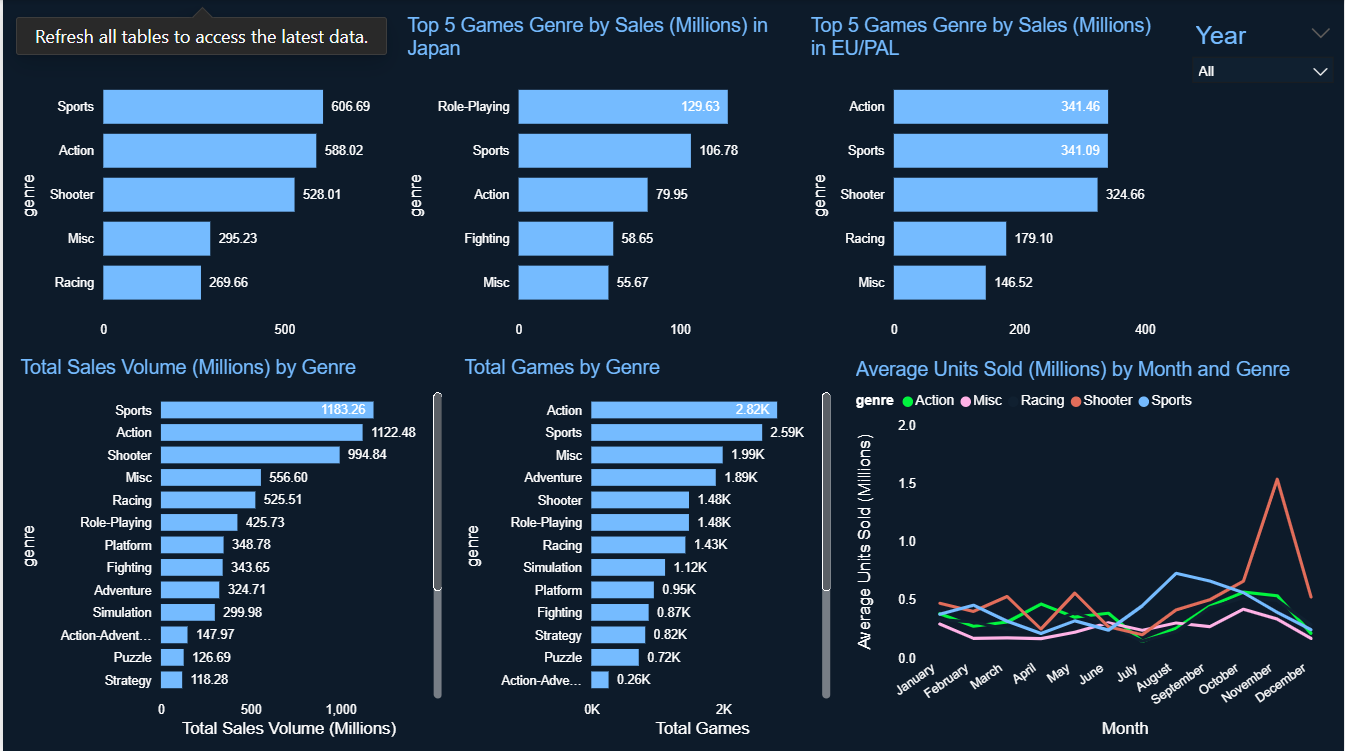

This screenshot's page, from the dashboard's own definition file:
{"tool":"powerbi","page":{"name":"Sales by Genre","canvas":[1280,720],"ordinal":1},"visuals":[{"type":"clusteredBarChart","title":"Total Sales Volume (Millions) by Genre","fields":{"Category":["Dim_Genre.genre"],"Y":["_Measures.Total Sales Volume (Millions)"]},"box":[11.6,341.2,412.5,367.7],"z":0},{"type":"clusteredBarChart","title":"Top 5 Games Genre by Sales (Millions) in North America","fields":{"Category":["Dim_Genre.genre"],"Y":["_Measures.US_sales"]},"box":[11.6,14.9,357.8,316.4],"z":1000},{"type":"clusteredBarChart","title":"Top 5 Games Genre by Sales (Millions) in Japan","fields":{"Category":["Dim_Genre.genre"],"Y":["_Measures.JP_sales"]},"box":[381,14.9,369.4,316.4],"z":2000},{"type":"clusteredBarChart","title":"Top 5 Games Genre by Sales (Millions) in EU/PAL","fields":{"Category":["Dim_Genre.genre"],"Y":["_Measures.EU_sales"]},"box":[767,14.9,347.9,316.4],"z":3000},{"type":"clusteredBarChart","title":"Total Games by Genre","fields":{"Category":["Dim_Genre.genre"],"Y":["_Measures.Total Games"]},"box":[435.7,341.2,359.5,367.7],"z":4000},{"type":"slicer","fields":{"Values":["Fact_Games.release_date.Variation.Date Hierarchy.Year"]},"box":[1125.6,14.6,154.5,83],"z":5000},{"type":"lineChart","title":"Average Units Sold (Millions) by Month and Genre","fields":{"Category":["Fact_Games.release_date.Variation.Date Hierarchy.Month"],"Series":["Dim_Genre.genre"],"Y":["_Measures.Average Units Sold (Millions)"]},"box":[808.8,342,457.3,366.6],"z":6000}]}

Visuals, with their boxes in screenshot pixels (x1, y1, x2, y2), scaled from the page's 1280x720 canvas onto the 1345x751 screenshot:
"Total Sales Volume (Millions) by Genre" clusteredBarChart: [left=12, top=356, right=446, bottom=739]
"Top 5 Games Genre by Sales (Millions) in North America" clusteredBarChart: [left=12, top=16, right=388, bottom=346]
"Top 5 Games Genre by Sales (Millions) in Japan" clusteredBarChart: [left=400, top=16, right=789, bottom=346]
"Top 5 Games Genre by Sales (Millions) in EU/PAL" clusteredBarChart: [left=806, top=16, right=1172, bottom=346]
"Total Games by Genre" clusteredBarChart: [left=458, top=356, right=836, bottom=739]
slicer - Fact_Games.release_date.Variation.Date Hierarchy.Year: [left=1183, top=15, right=1344, bottom=102]
"Average Units Sold (Millions) by Month and Genre" lineChart: [left=850, top=357, right=1330, bottom=739]
